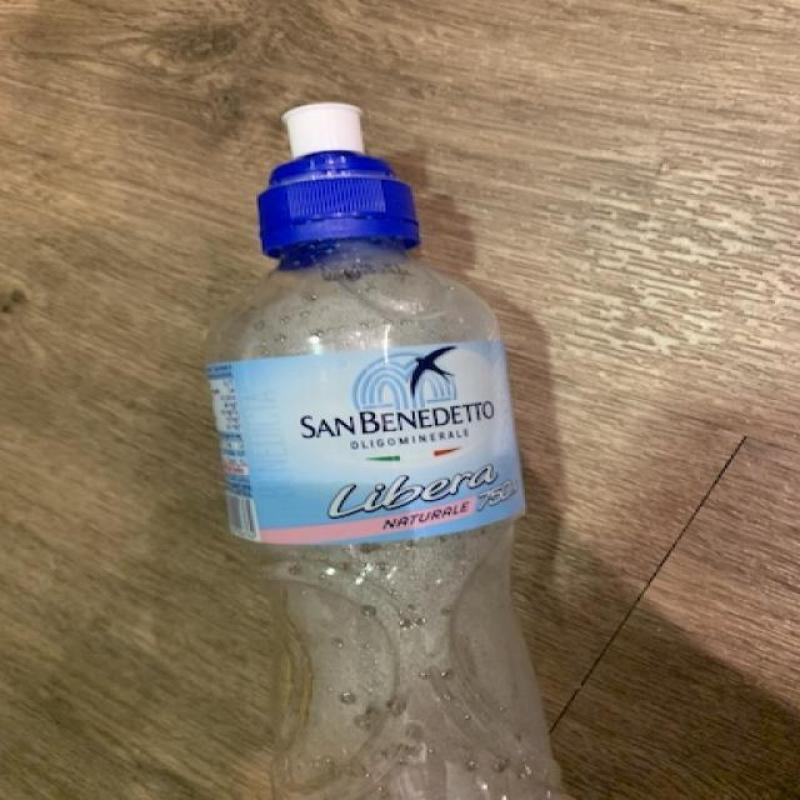botella: (204, 101, 568, 800)
